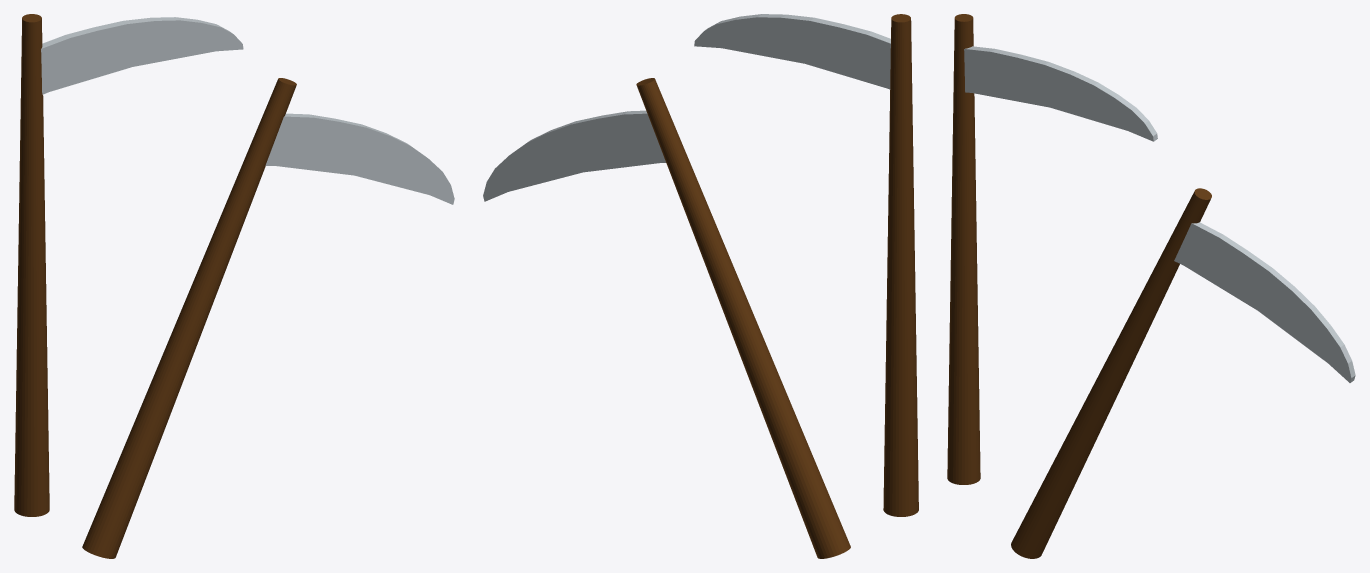
Rendered from tinker.obj.
3 views of the same model, side by side, from view 1: azimuth 30°, elevation 25°; view 2: azimuth 150°, elevation 25°; view 3: azimuth 330°, elevation 25° (orthographic). The views are drawn at different scales.
Parts seen in each view (by area): view 1: group_0_-10471149, group_0_-4208692; view 2: group_0_-10471149, group_0_-4208692; view 3: group_0_-10471149, group_0_-4208692.
Part boxes in pixels (<box>): group_0_-10471149: <box>14,14,296,558</box>; group_0_-4208692: <box>41,17,454,204</box>; group_0_-10471149: <box>636,14,918,558</box>; group_0_-4208692: <box>483,14,890,201</box>; group_0_-10471149: <box>947,14,1211,558</box>; group_0_-4208692: <box>964,46,1355,382</box>.
Size of the model in its own units: 22.35 by 27.38 by 1.59.
